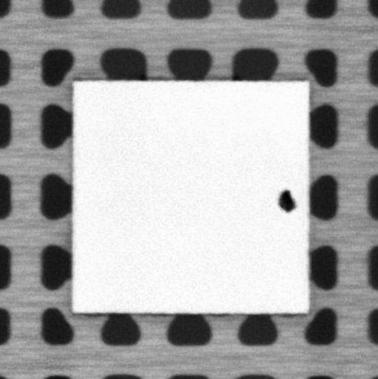DIE_INK: (276, 186, 298, 214)
